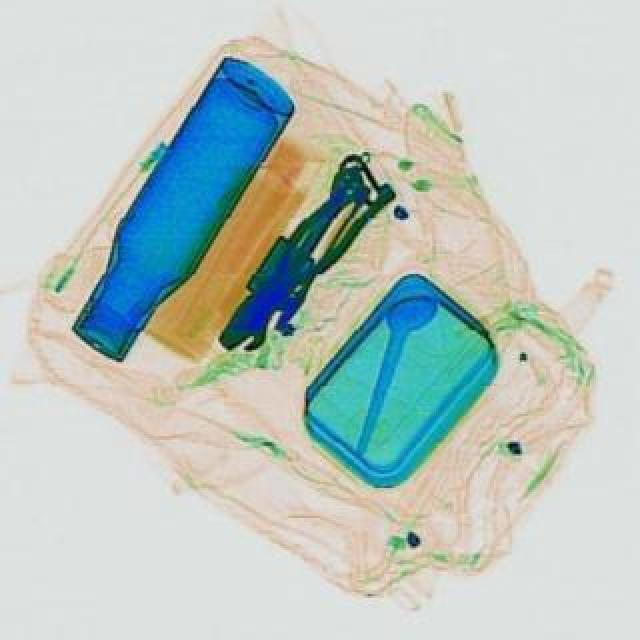scissors: (216, 154, 374, 354)
wrench: (220, 160, 396, 340)
